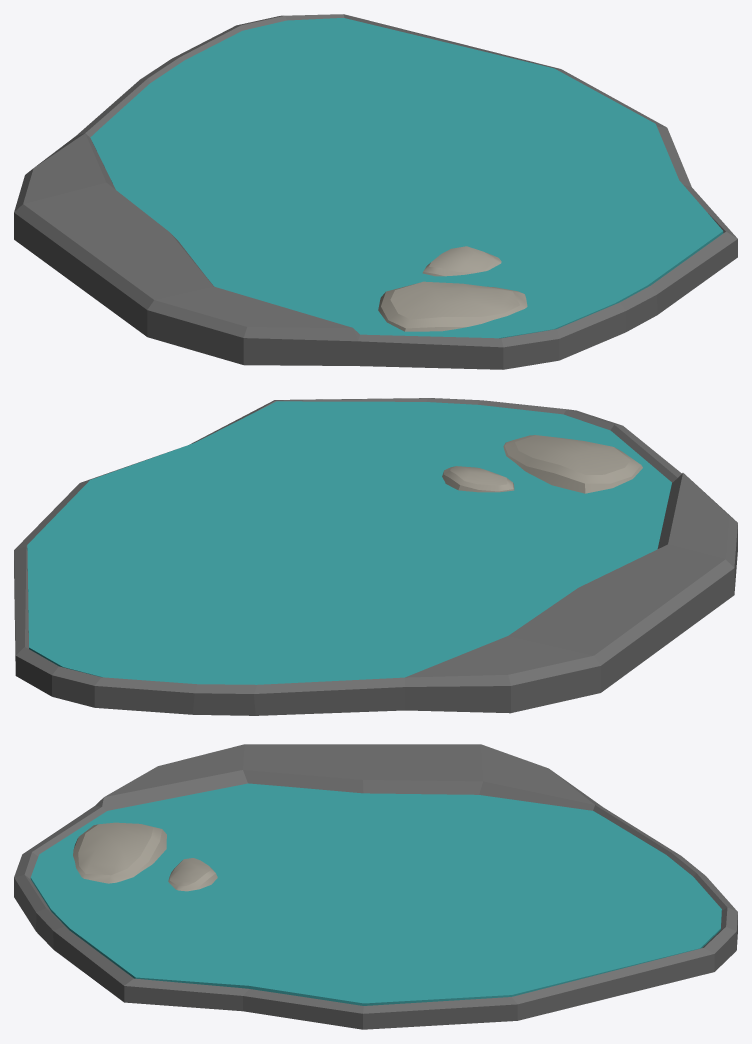
The model's file is small_pond_01.fbx.
3 renders of one model, top to bottom at view 1: azimuth 30°, elevation 25°; view 2: azimuth 150°, elevation 25°; view 3: azimuth 270°, elevation 25°, orthographic. The views are drawn at different scales.
Parts seen in each view (by area): view 1: polySurface2, polySurface1, pCube16, pCube17; view 2: polySurface2, polySurface1, pCube16, pCube17; view 3: polySurface2, polySurface1, pCube16, pCube17.
Boxes of the visible parts, <box> form: polySurface2: <box>90,18,723,338</box>; polySurface1: <box>14,14,737,369</box>; pCube16: <box>378,281,527,331</box>; pCube17: <box>422,246,501,276</box>; polySurface2: <box>27,401,671,684</box>; polySurface1: <box>14,398,737,715</box>; pCube16: <box>503,435,642,493</box>; pCube17: <box>442,466,514,492</box>; polySurface2: <box>30,783,721,1005</box>; polySurface1: <box>14,744,737,1029</box>; pCube16: <box>73,822,166,883</box>; pCube17: <box>168,858,217,891</box>.
Size of the model in its own units: 3.69 by 0.2588 by 4.38.
